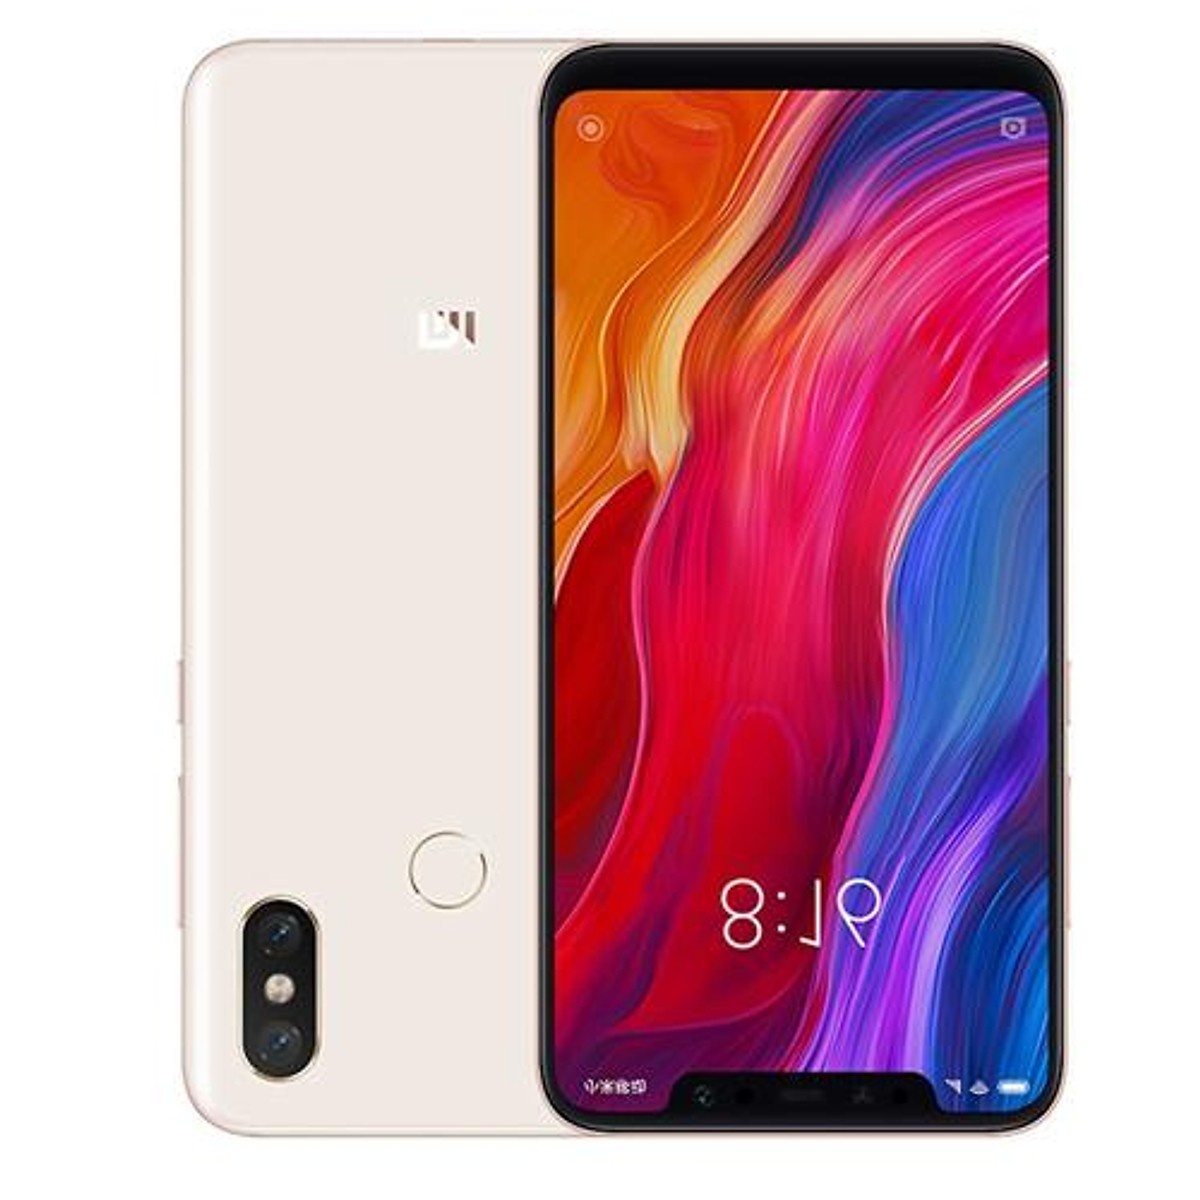Xiaomi: (338, 221, 624, 426)
